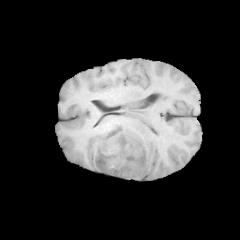glioma: (86, 124, 150, 180)
